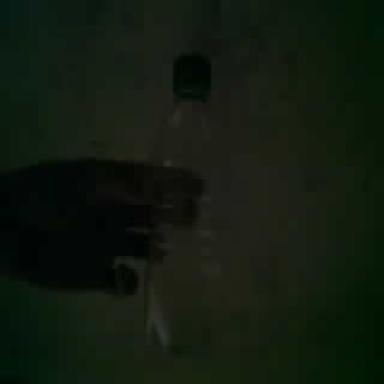bottle: (144, 58, 227, 351)
